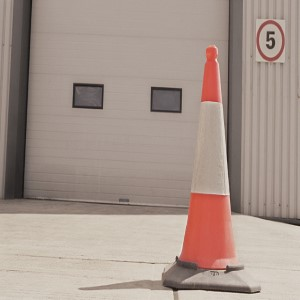traffic cone: (162, 45, 261, 293)
